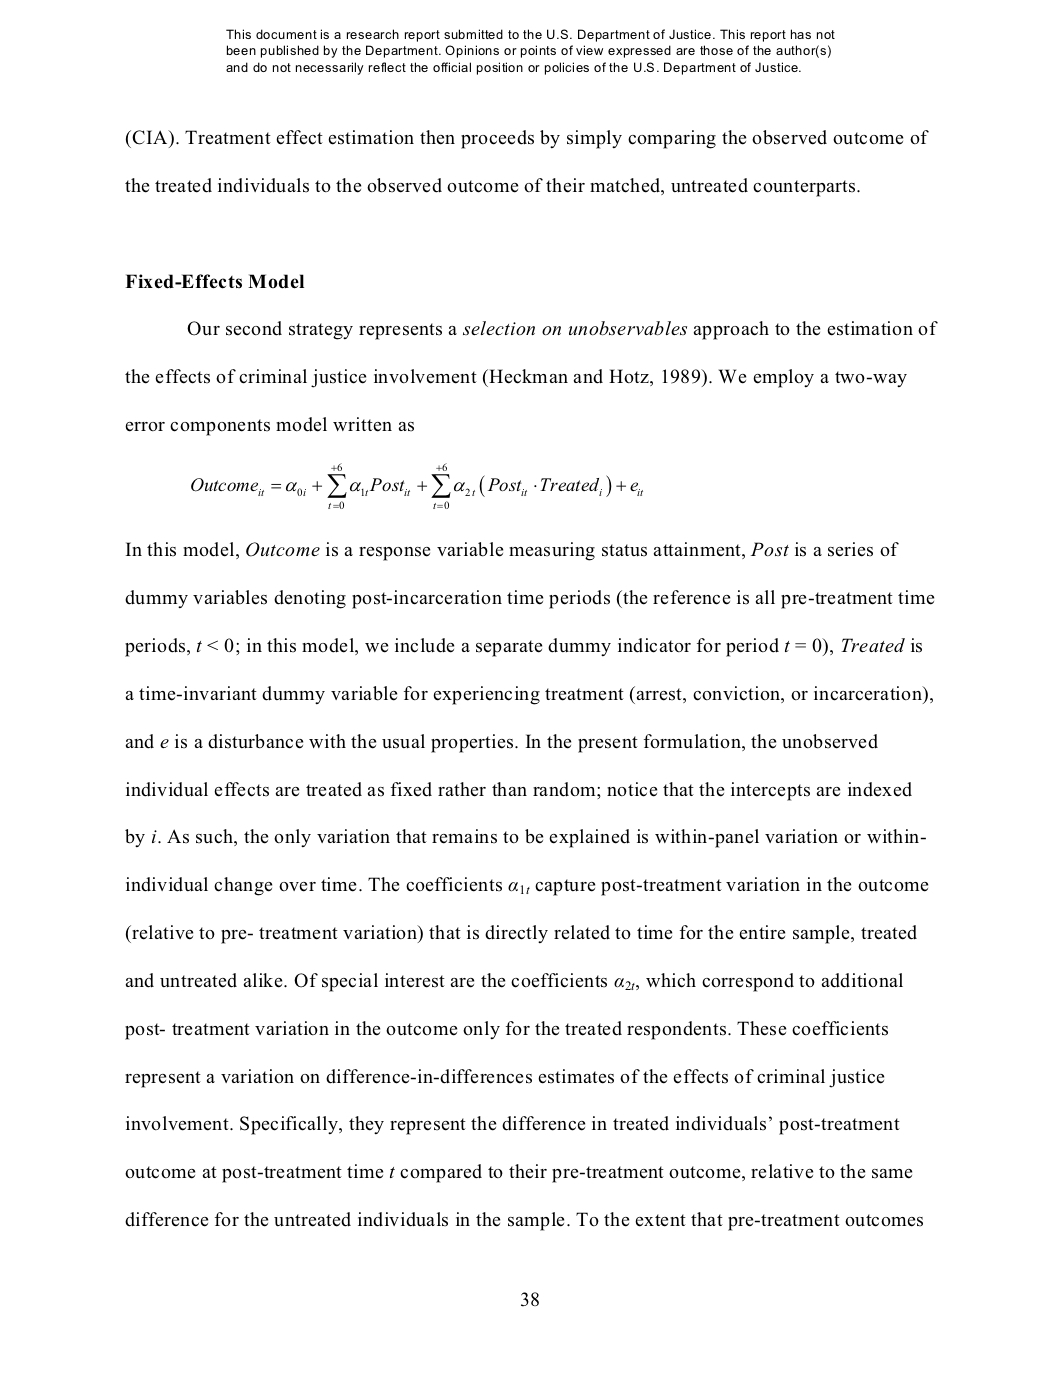formula: (191, 462, 643, 509)
